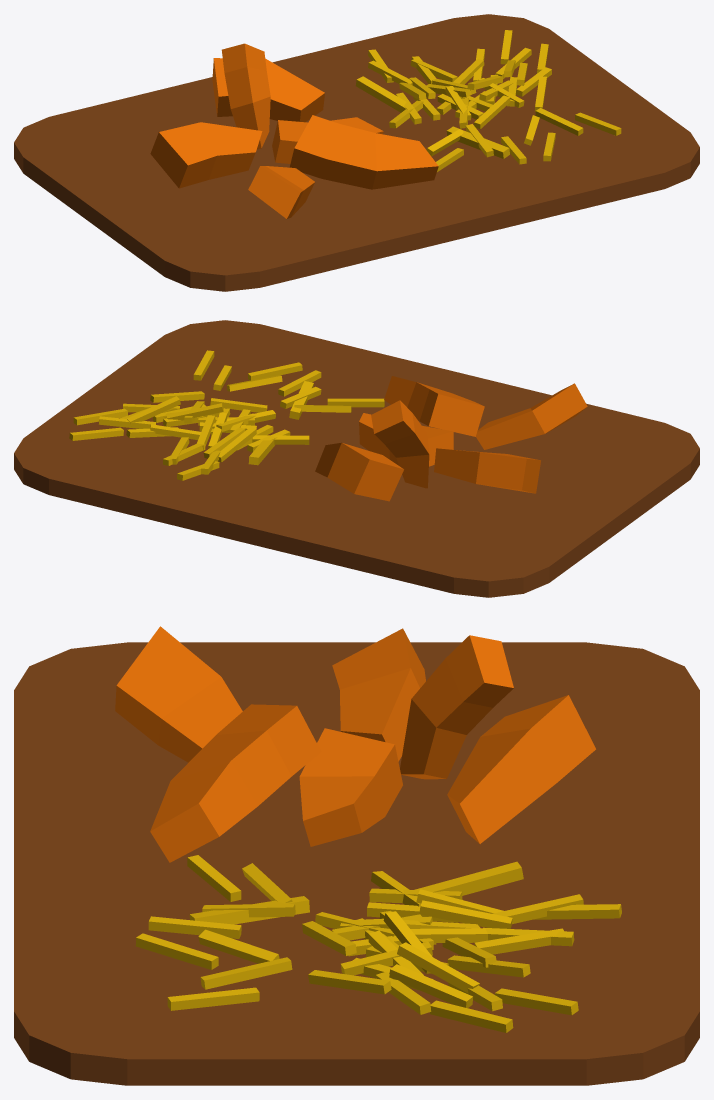
Rendered from crabdish.fbx.
3 views of the same model, one above another, from view 1: azimuth 30°, elevation 25°; view 2: azimuth 150°, elevation 25°; view 3: azimuth 270°, elevation 25° (orthographic). The views are drawn at different scales.
Visible parts, largest first — view 1: Cube.129; view 2: Cube.129; view 3: Cube.129.
Boxes of the visible parts, x1,y1,x2,y2 form: Cube.129: [14, 14, 699, 291]; Cube.129: [14, 320, 699, 597]; Cube.129: [14, 626, 699, 1085].
Size of the model in its own units: 178 by 35.96 by 124.
